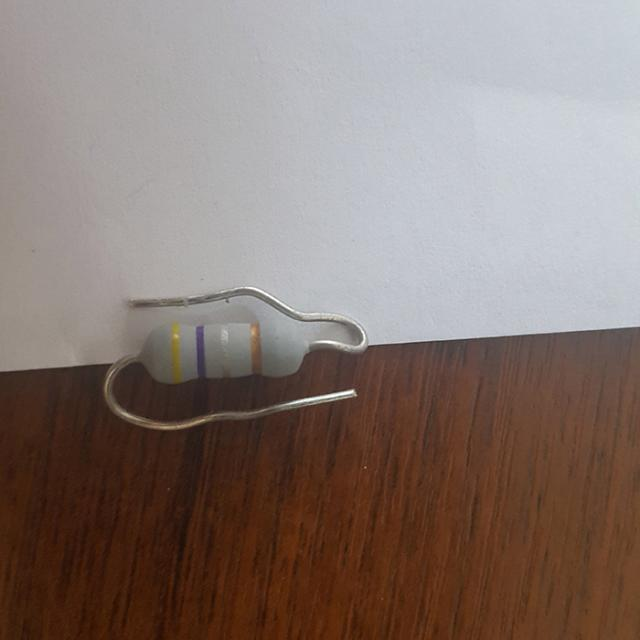Resistor Carbon-Film: (137, 324, 302, 381)
